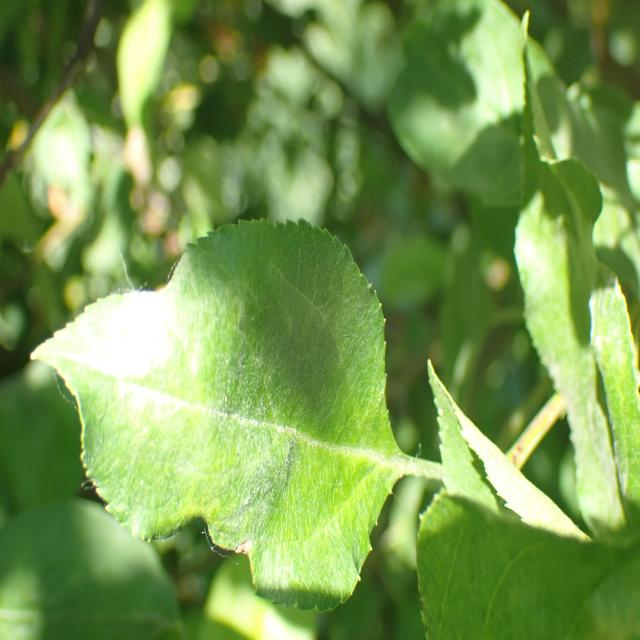scab: (75, 324, 329, 580)
